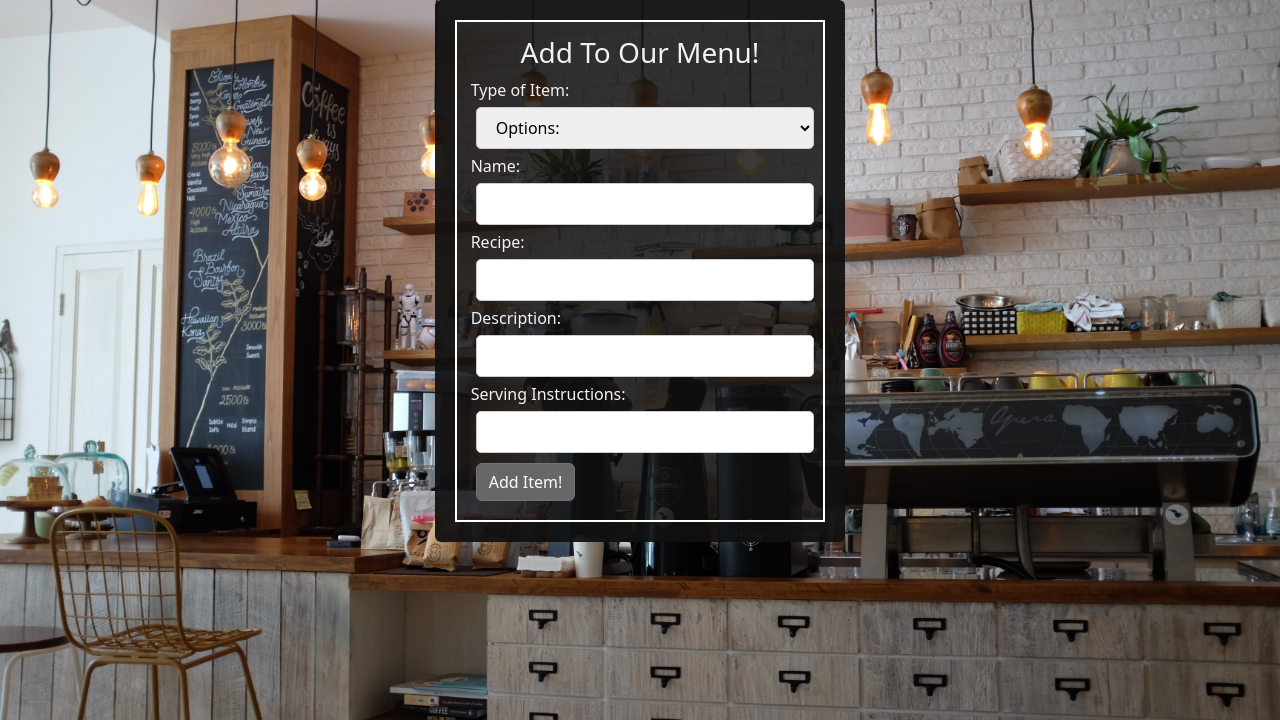
Test case: displays shows error message if type isn't selected upon submission
Step 1. Type "New Snack!" into the field with id "NewItemForm-name" → (645, 204), box left=476, top=183, right=814, bottom=225
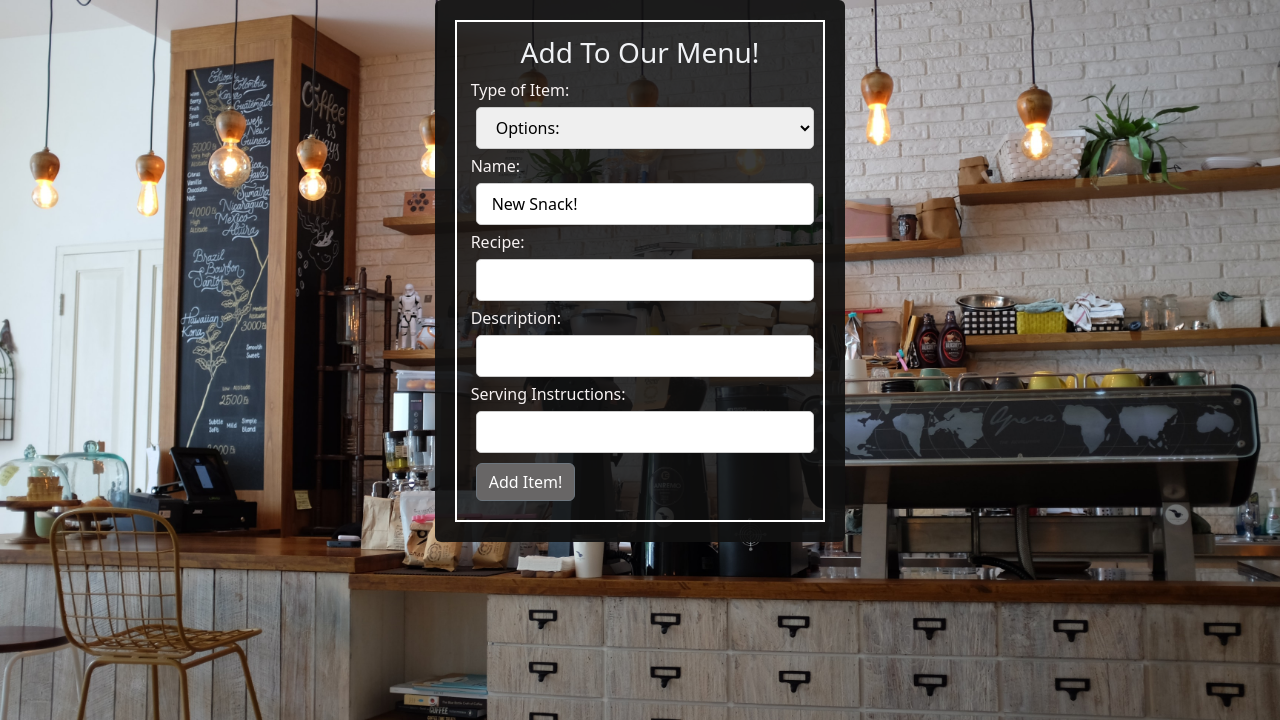
Step 2. Type "Just have fun out there." into the field with id "NewItemForm-recipe" → (645, 280), box left=476, top=259, right=814, bottom=301
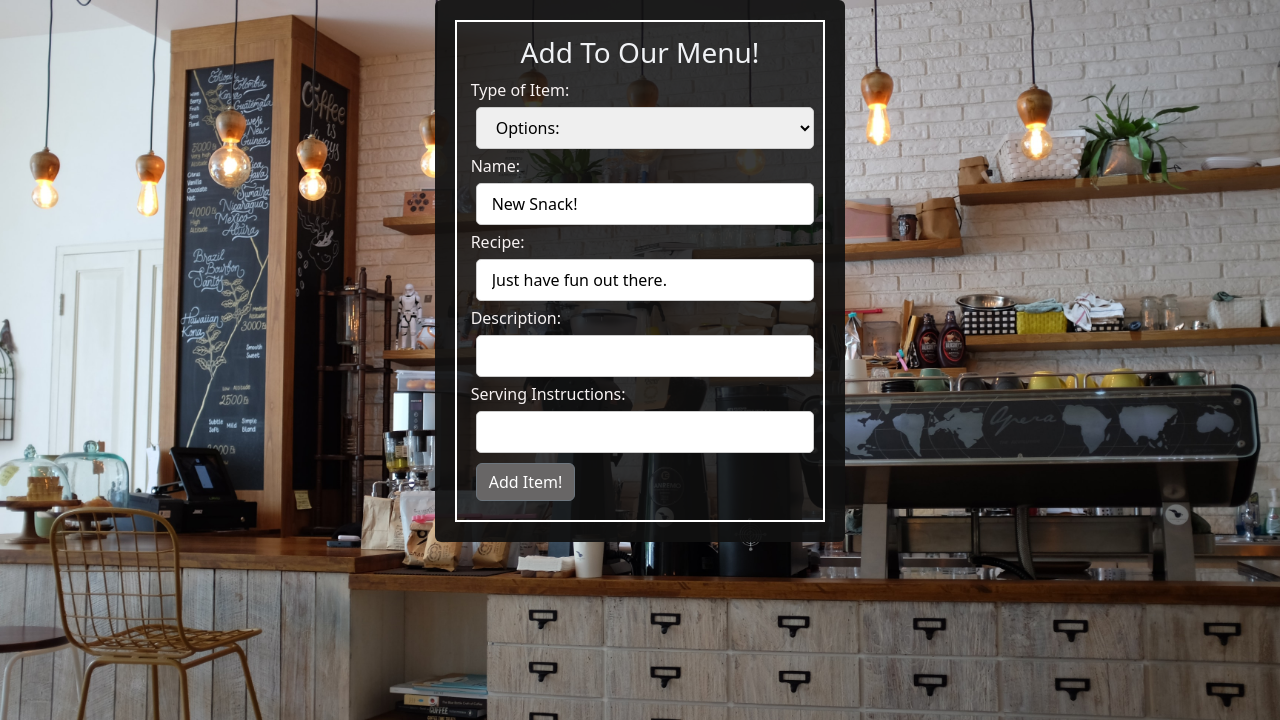
Step 3. Type "New snack description." into the field with id "NewItemForm-description" → (645, 356), box left=476, top=335, right=814, bottom=377
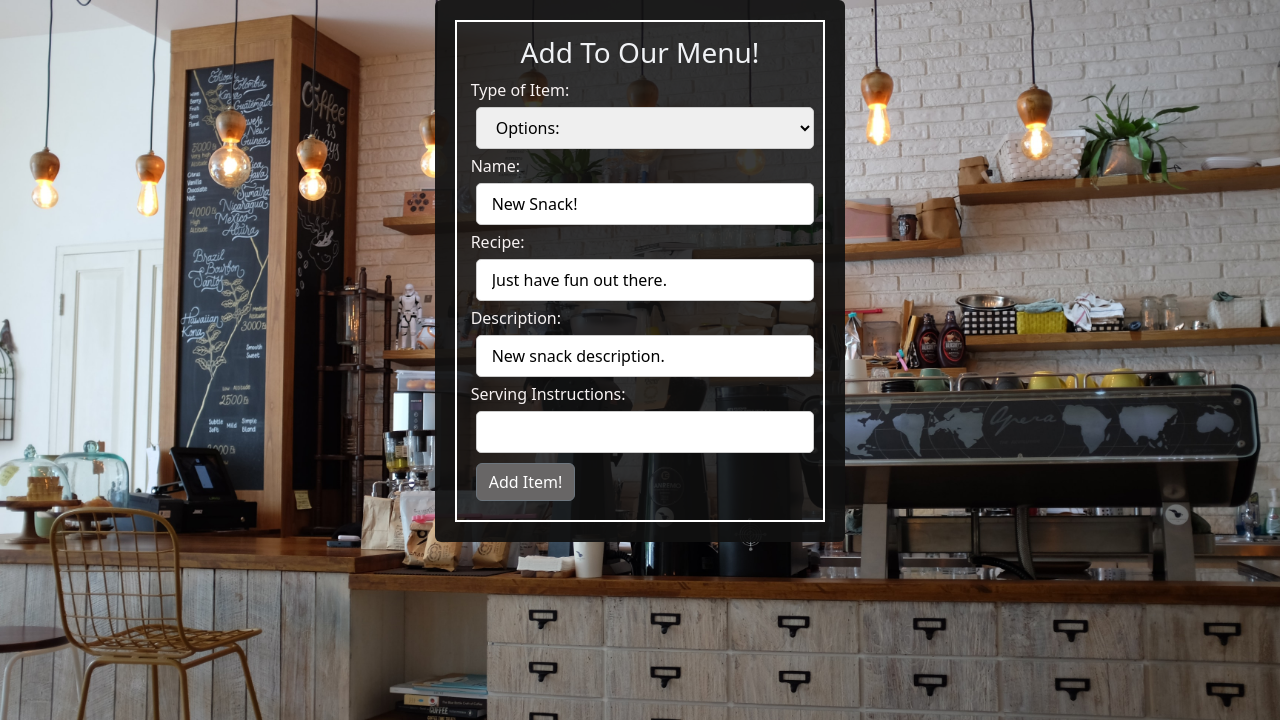
Step 4. Type "All day" into the field with id "NewItemForm-serving-instructions" → (645, 432), box left=476, top=411, right=814, bottom=453
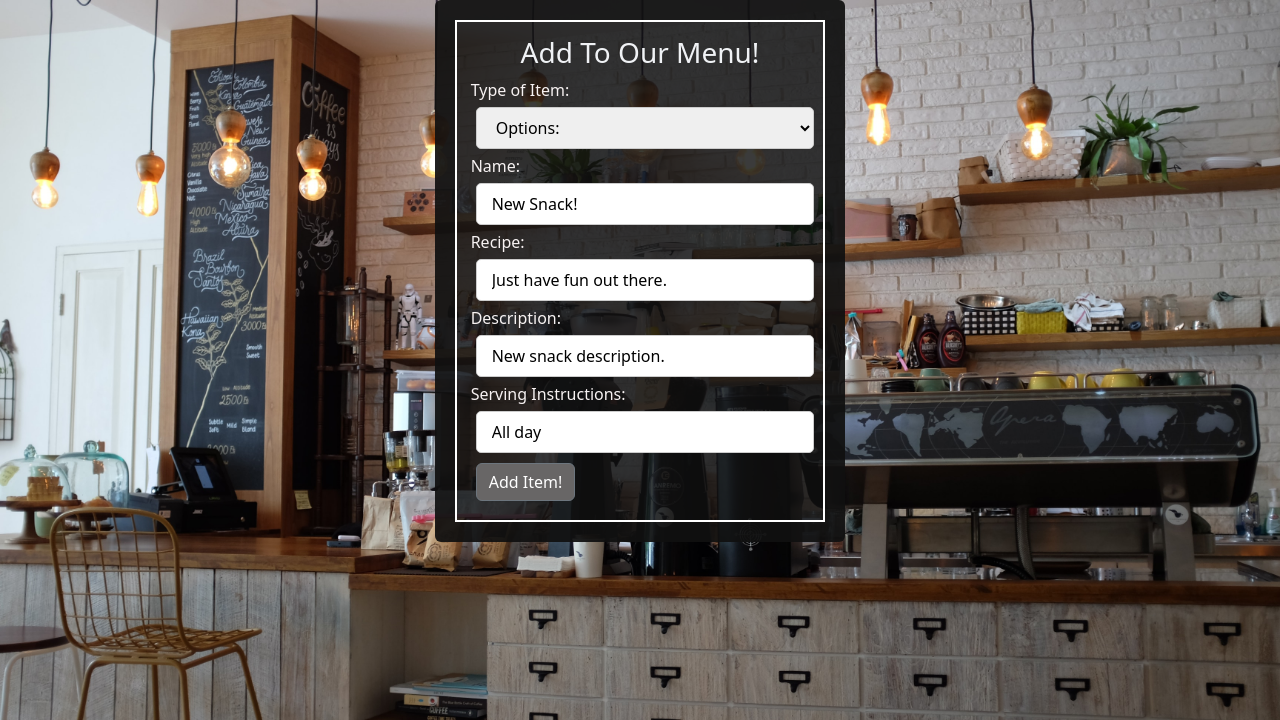
Step 5. Submit the form with class "NewItemForm-form", box left=471, top=78, right=809, bottom=506
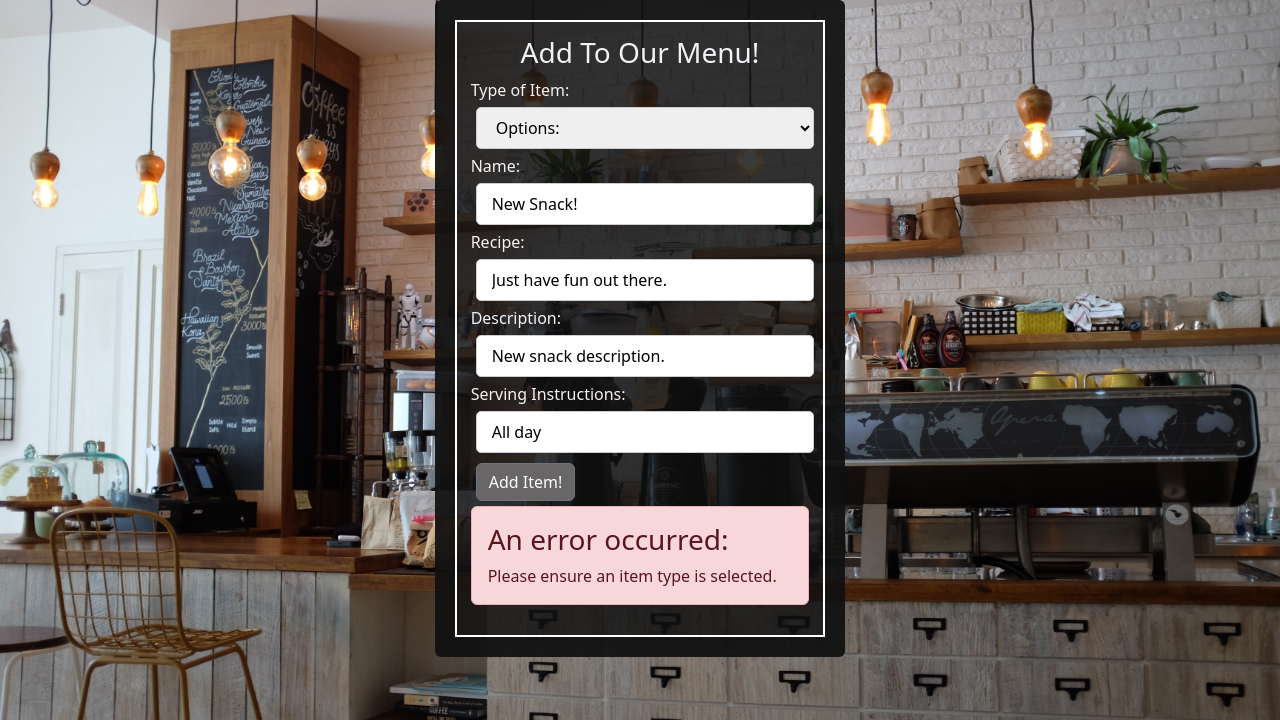
Expected: the element with class "Error" shows "Please ensure an item type is selected.", left=488, top=565, right=777, bottom=587
